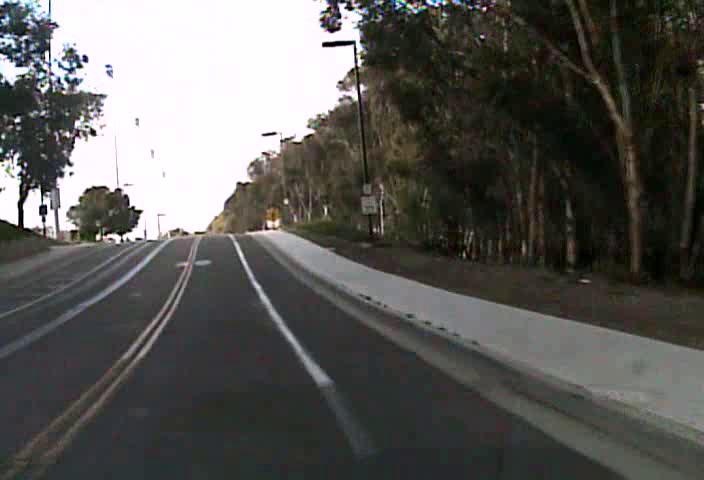speedLimitUrdbl: (360, 194, 378, 215)
